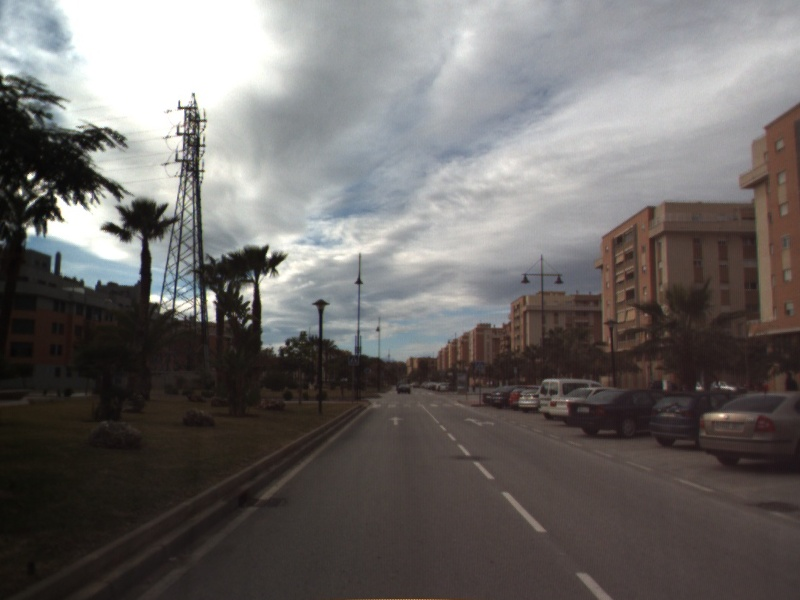STRAIGHT: (386, 414, 406, 427)
STRAIGHT_RIGHT: (462, 415, 497, 428)
